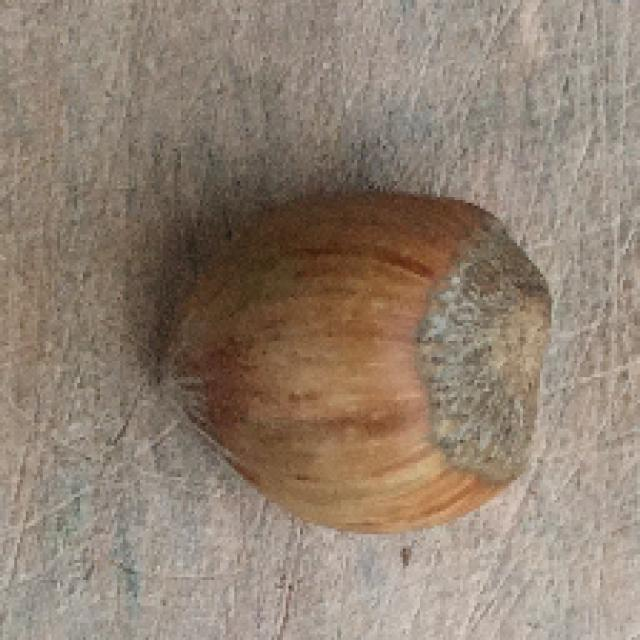qualityHazelnut: (158, 176, 551, 538)
